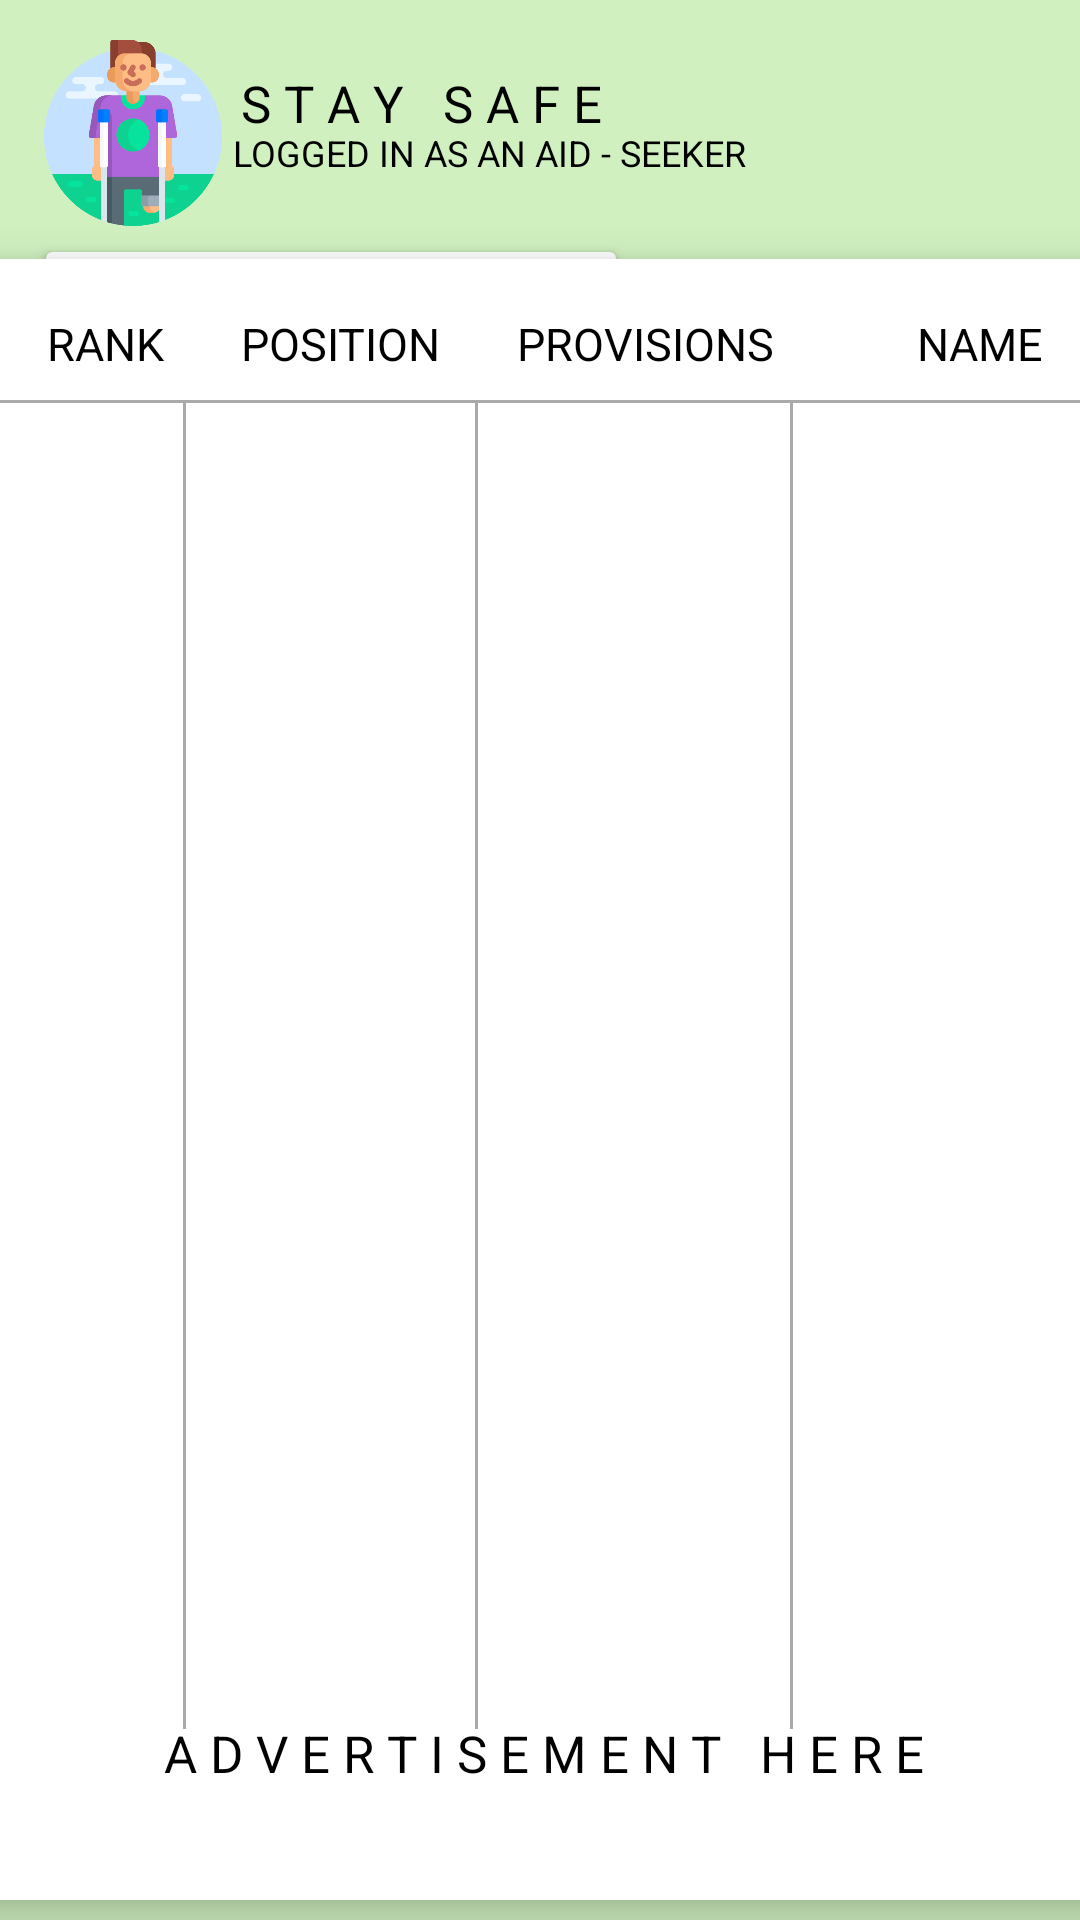

Where icons sit on this 1080×1920 app screen, as (x1, y1, x2, y2):
amputee: (44, 40, 222, 226)
